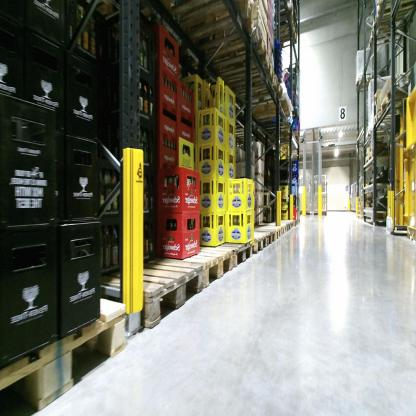pallet: (2, 288, 130, 414), (92, 253, 202, 336), (143, 3, 258, 60), (182, 22, 269, 78), (208, 48, 276, 111), (214, 71, 288, 114), (169, 245, 234, 289), (236, 97, 294, 131), (213, 237, 253, 268), (367, 26, 409, 49), (262, 125, 304, 147), (263, 22, 301, 45), (370, 105, 410, 126), (382, 86, 412, 110), (267, 3, 297, 26), (365, 128, 404, 144), (355, 72, 382, 95), (252, 224, 282, 244), (245, 230, 268, 255), (250, 228, 277, 244), (268, 222, 287, 234), (281, 221, 290, 232), (356, 196, 365, 201), (357, 215, 366, 220), (357, 200, 364, 205), (357, 209, 363, 214), (357, 205, 363, 209), (291, 220, 294, 227)
